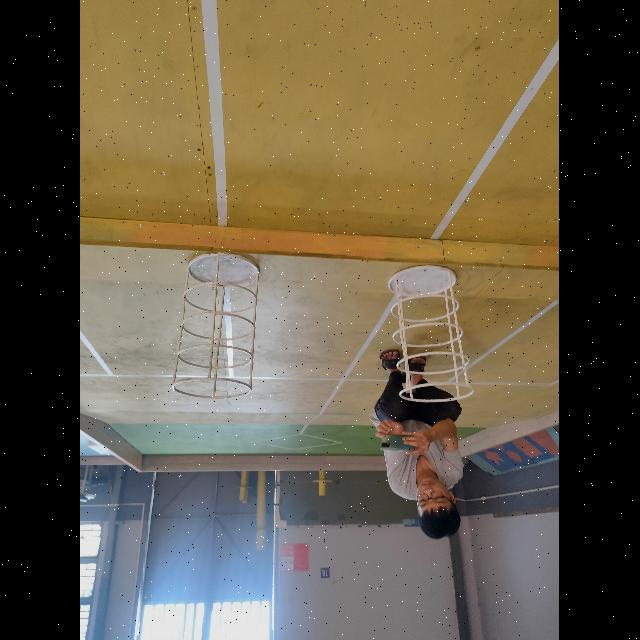S: (171, 251, 262, 400), (387, 264, 476, 404)
